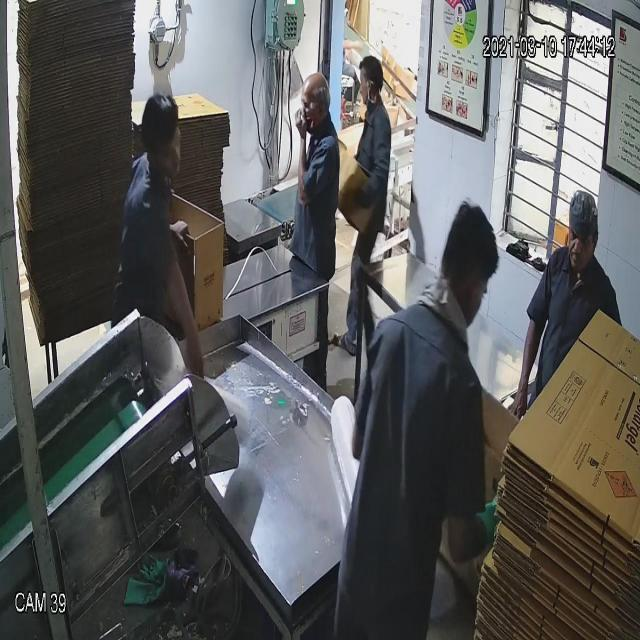No_Gloves: (25, 113, 528, 369)
